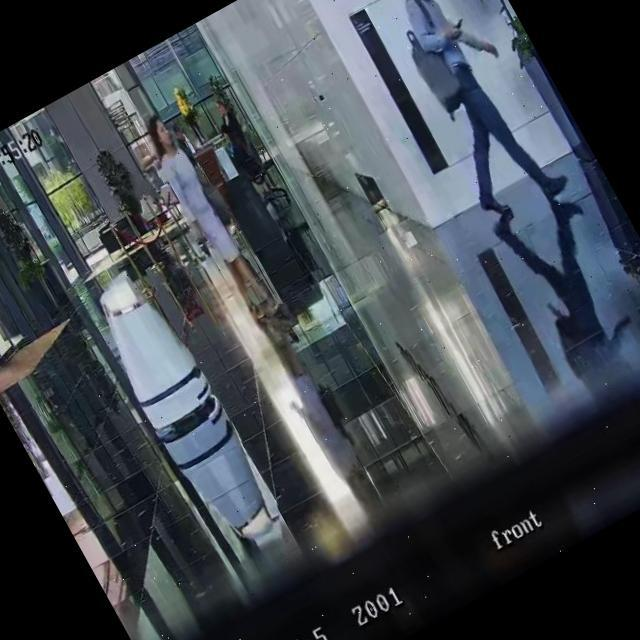person: (351, 0, 575, 231), (137, 108, 278, 324), (216, 118, 262, 182), (212, 94, 250, 144), (169, 119, 202, 164)
